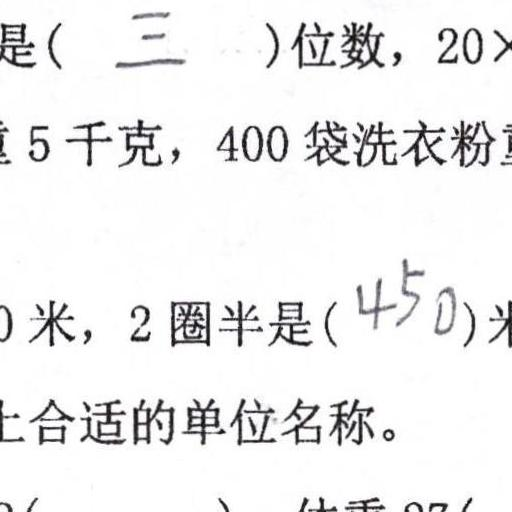ans: (349, 254, 457, 337), (110, 0, 185, 73)
